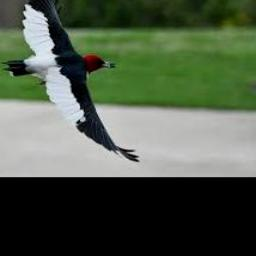Woodpecker: (2, 0, 139, 162)
